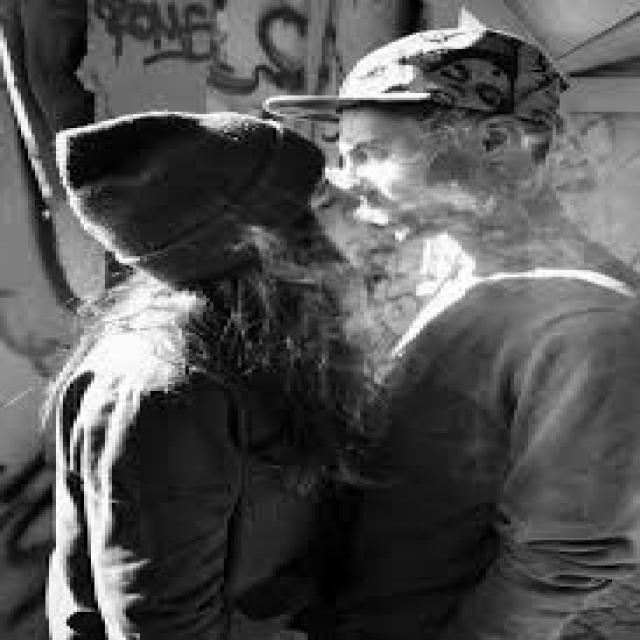Smoke: (378, 124, 636, 276), (239, 224, 331, 299)
